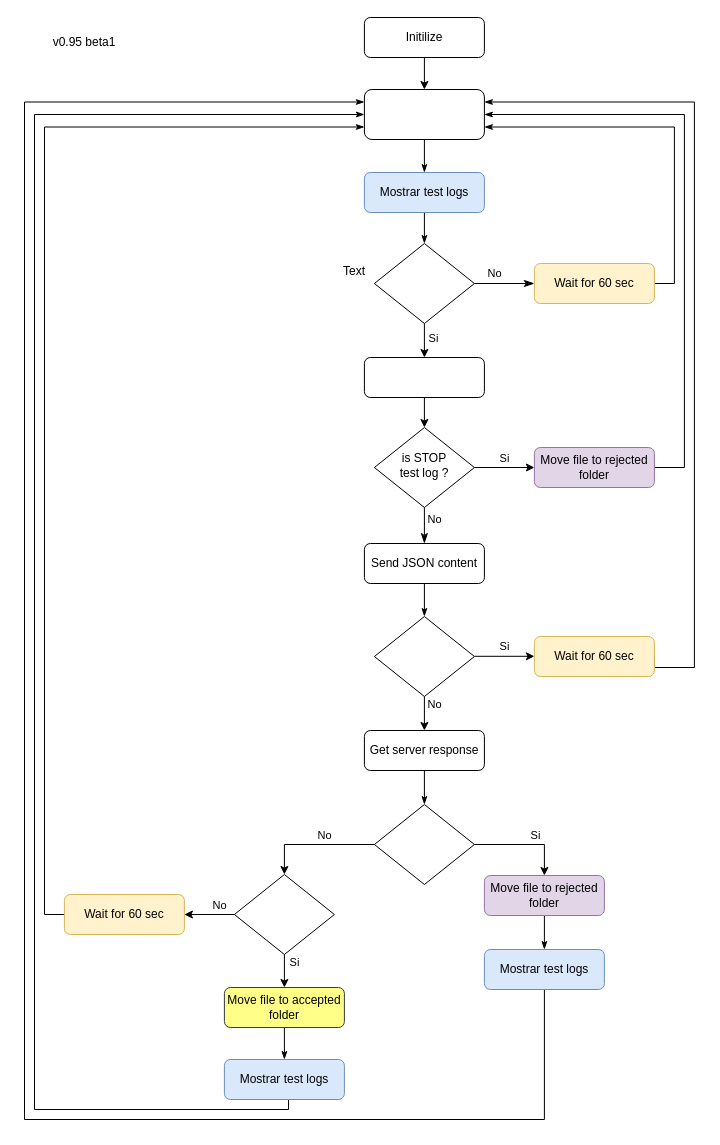
This 720x1145 diagram has some shape labels left out. Here are the shapes that lost their labels. From the top down, the centre of each, then its label:
At point (423, 114): "Get log folder All files in Dir Get No. of files (n)".
At point (423, 283): "n > 0".
At point (423, 377): "Take one file".
At point (423, 656): "error?".
At point (423, 844): "error= false?".
At point (283, 914): "JSON OK?".
